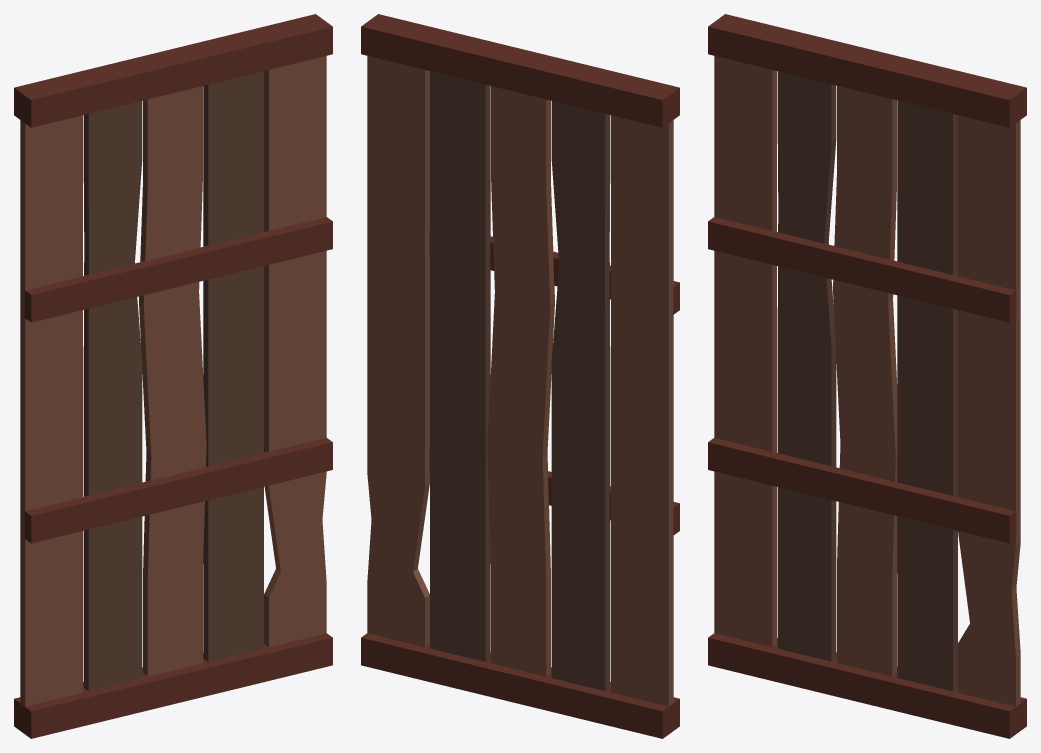
The model's file is ScrapWall3.fbx.
3 views of the same model, side by side, from view 1: azimuth 30°, elevation 25°; view 2: azimuth 150°, elevation 25°; view 3: azimuth 330°, elevation 25° (orthographic).
Visible parts, largest first — view 1: Cube; view 2: Cube; view 3: Cube.
Boxes of the visible parts, box(x1,y1,x2,y2) form: Cube: box(14, 14, 332, 738); Cube: box(361, 14, 679, 738); Cube: box(708, 14, 1026, 738).
Bounding box in the file's own units: 200 × 405 × 19.8.
